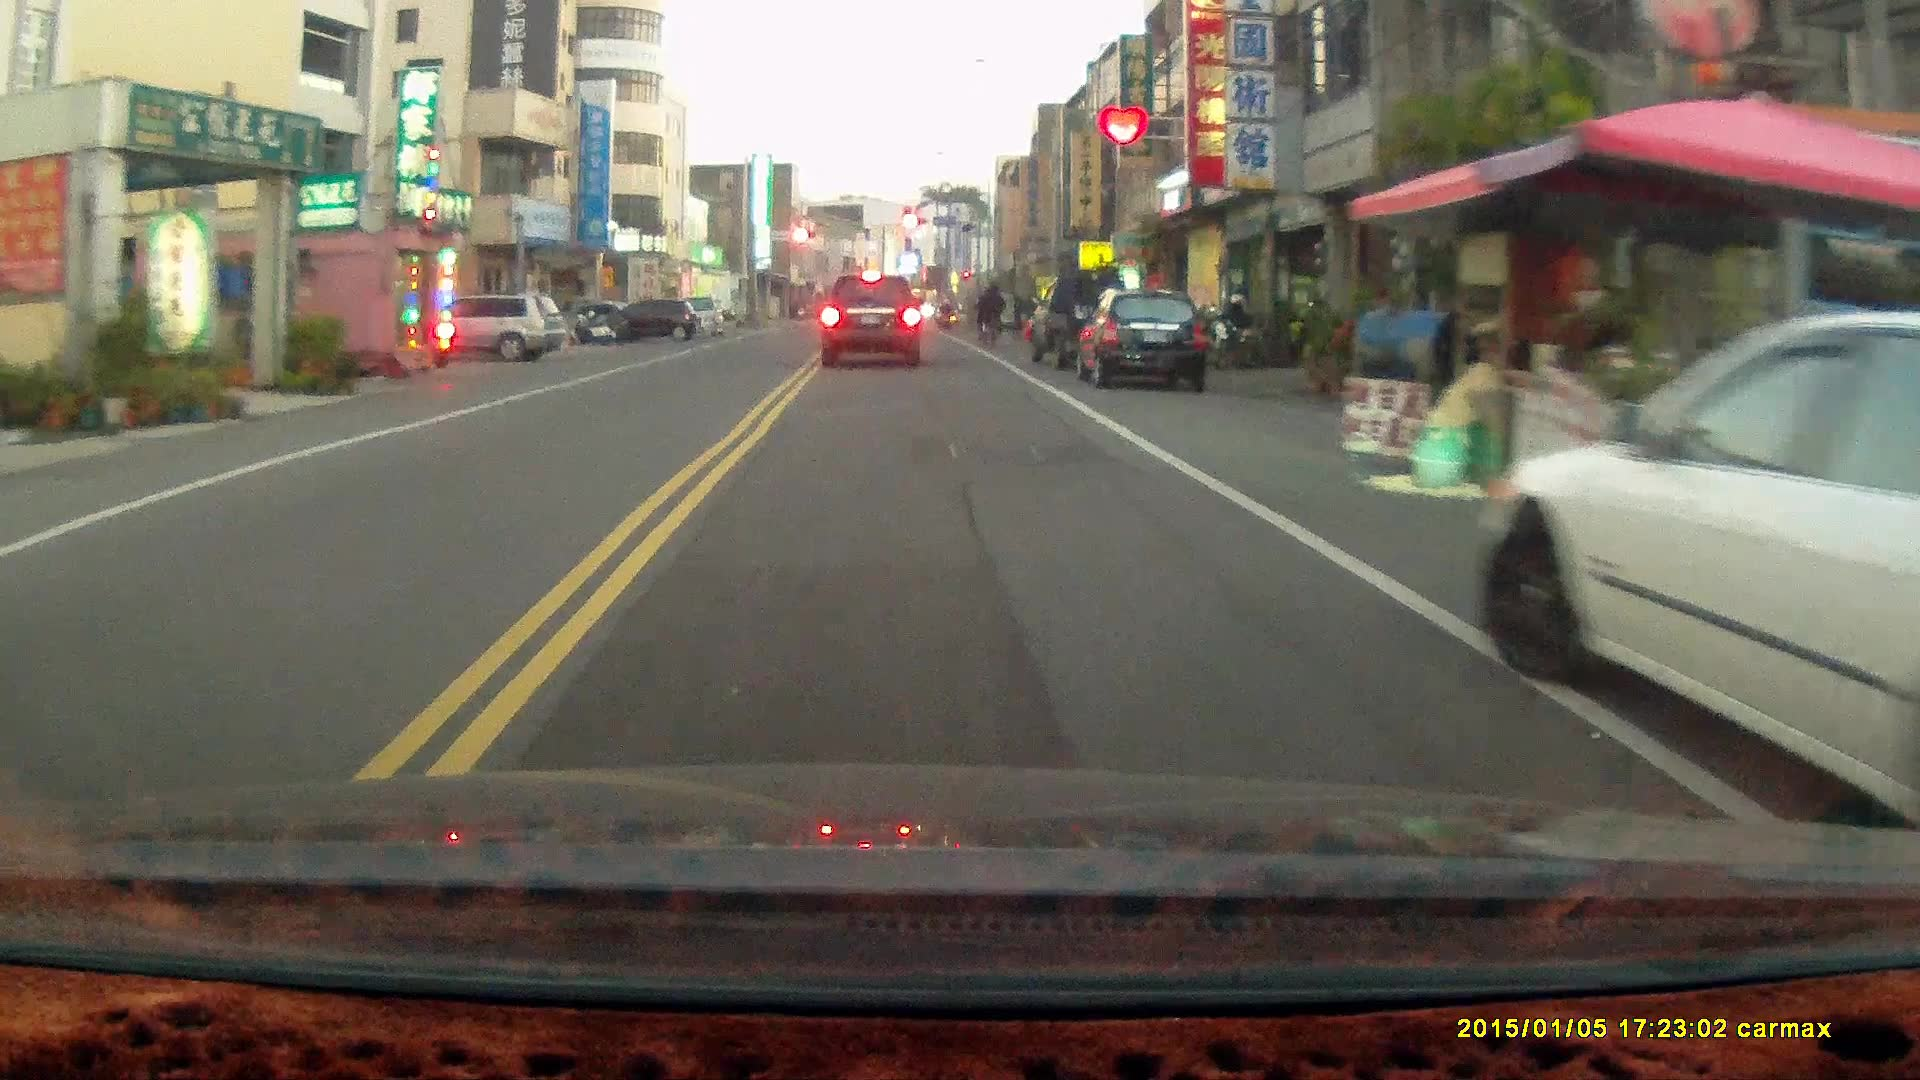rider: (975, 277, 1005, 349)
vehicle: (1494, 292, 1920, 826), (1078, 283, 1214, 391), (396, 296, 565, 367), (818, 271, 924, 370), (587, 297, 700, 345)
